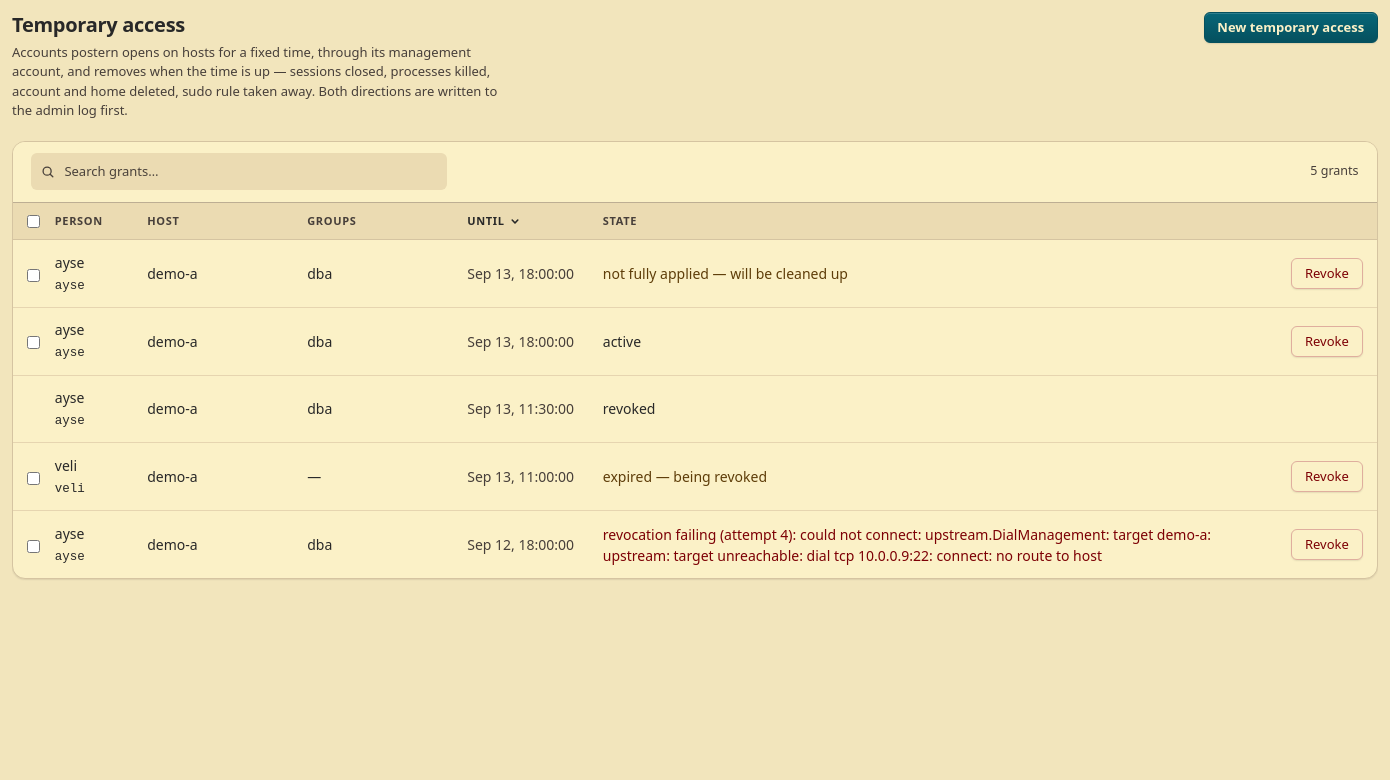
Test: geçici erişim kartı görsel çıktısı › formu, listeyi ve sonucu diske yazıyor
This screenshot has width=1390, height=780.
Click the button with aria-label "revoke ayse's temporary access" at (1327, 273), box top-left (1291, 258), bottom-right (1363, 289)
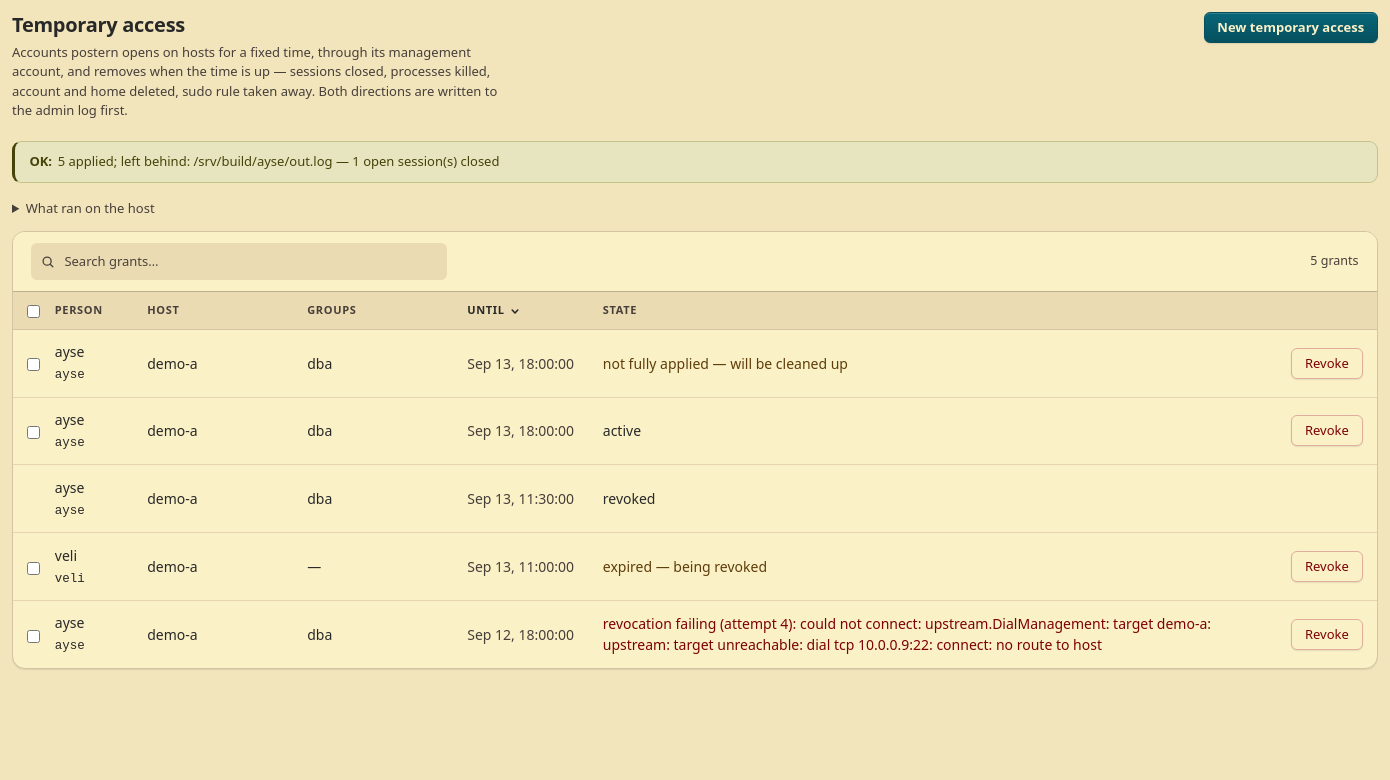
Expected: the text "Temporary access" is shown, top-left (12, 11), bottom-right (185, 38)
Result: the text "5 applied; left behind: /srv/build/ayse/out.log — 1 open session(s) closed" is shown at top-left (12, 141), bottom-right (1378, 183)
